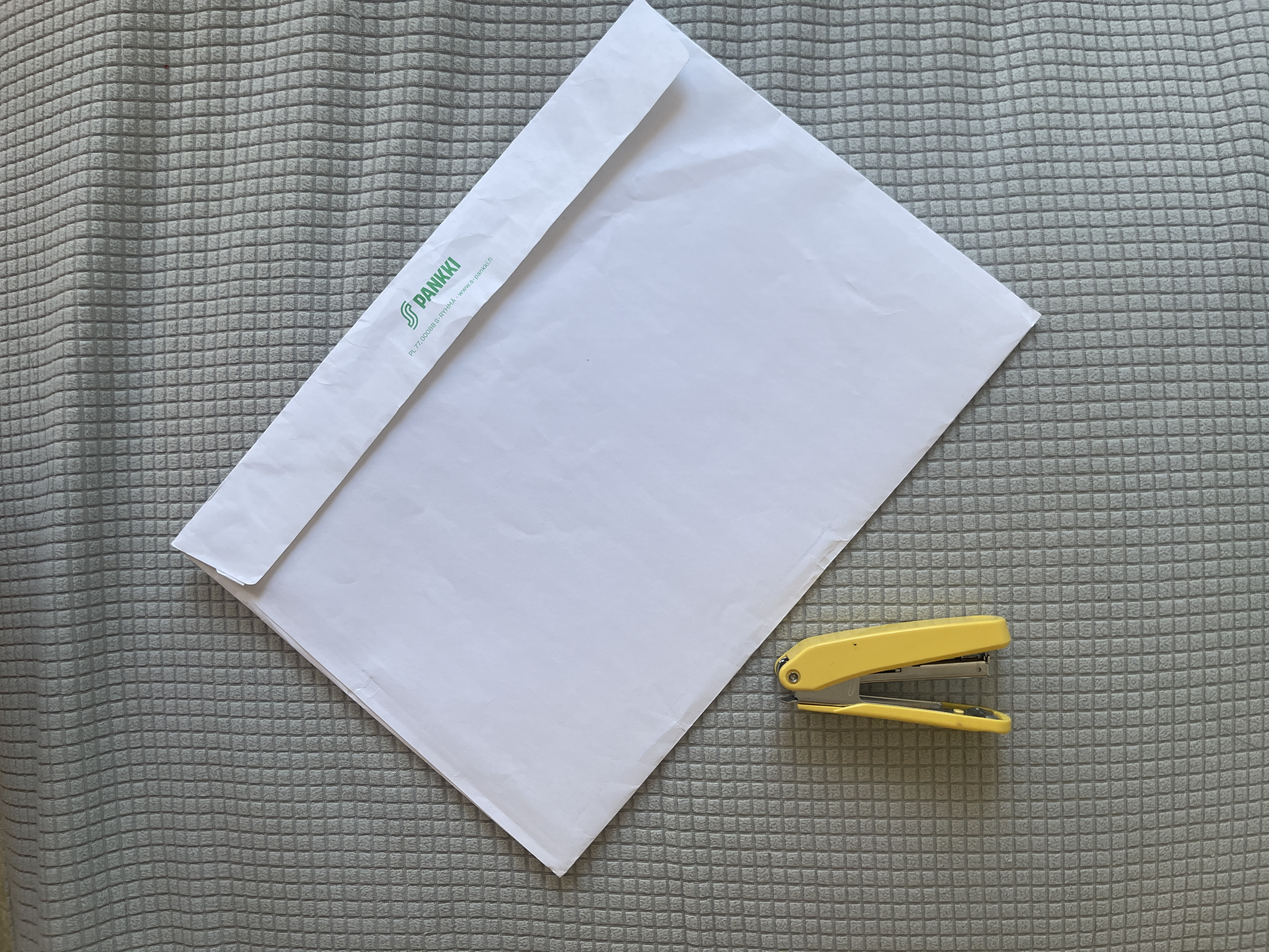paper: (168, 47, 774, 881)
